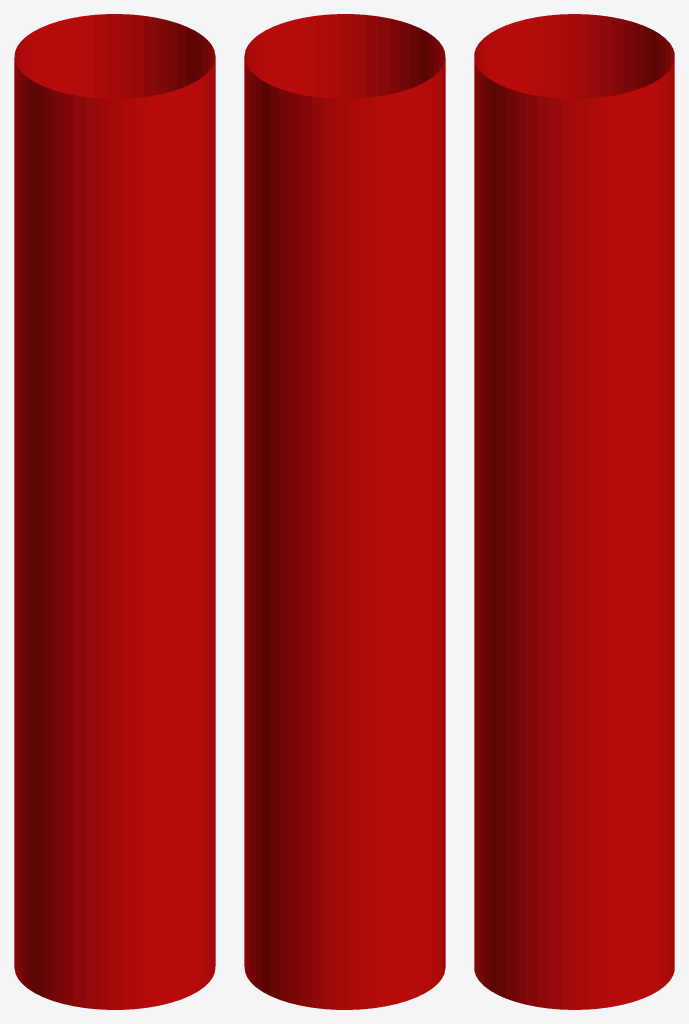
3 views of the same model, side by side, from view 1: azimuth 30°, elevation 25°; view 2: azimuth 150°, elevation 25°; view 3: azimuth 270°, elevation 25° (orthographic).
Parts seen in each view (by area): view 1: geo1; view 2: geo1; view 3: geo1.
Part boxes in pixels (bbox=[...]): geo1: bbox=[14, 14, 215, 1009]; geo1: bbox=[244, 14, 445, 1009]; geo1: bbox=[474, 14, 674, 1009].
Size of the model in its own units: 2 by 10 by 2.
